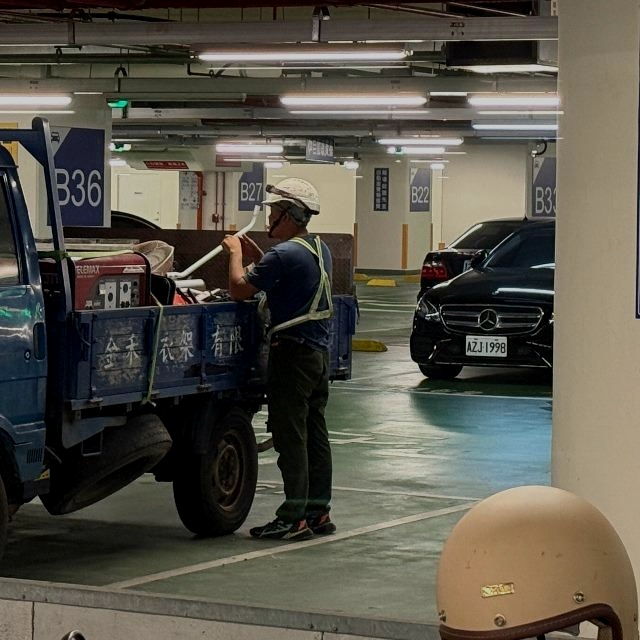Con_Casco: (261, 177, 322, 238)
Con_Chaleco: (263, 239, 333, 345)
